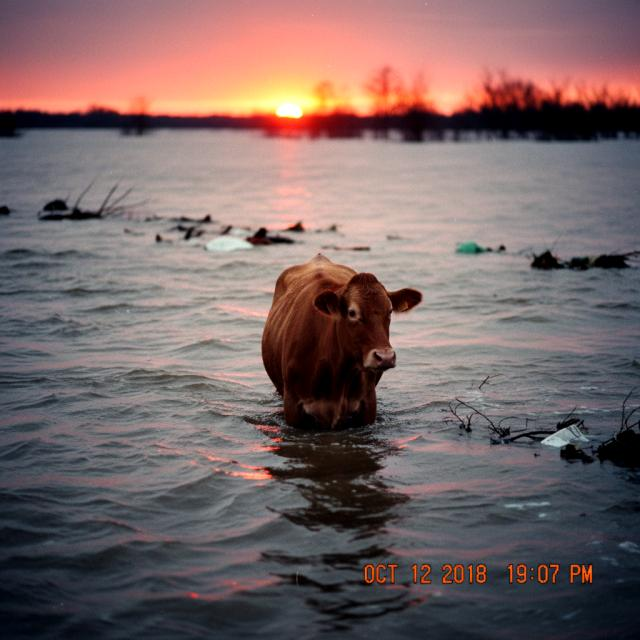cow: (246, 246, 432, 448)
